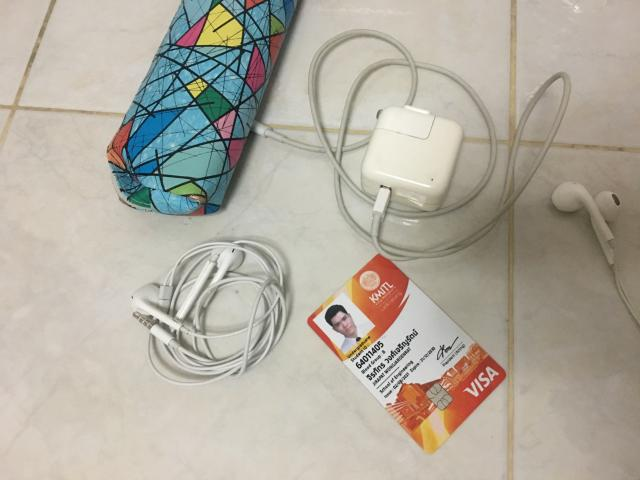wire: (250, 30, 570, 260), (131, 240, 288, 385), (551, 181, 640, 325)
